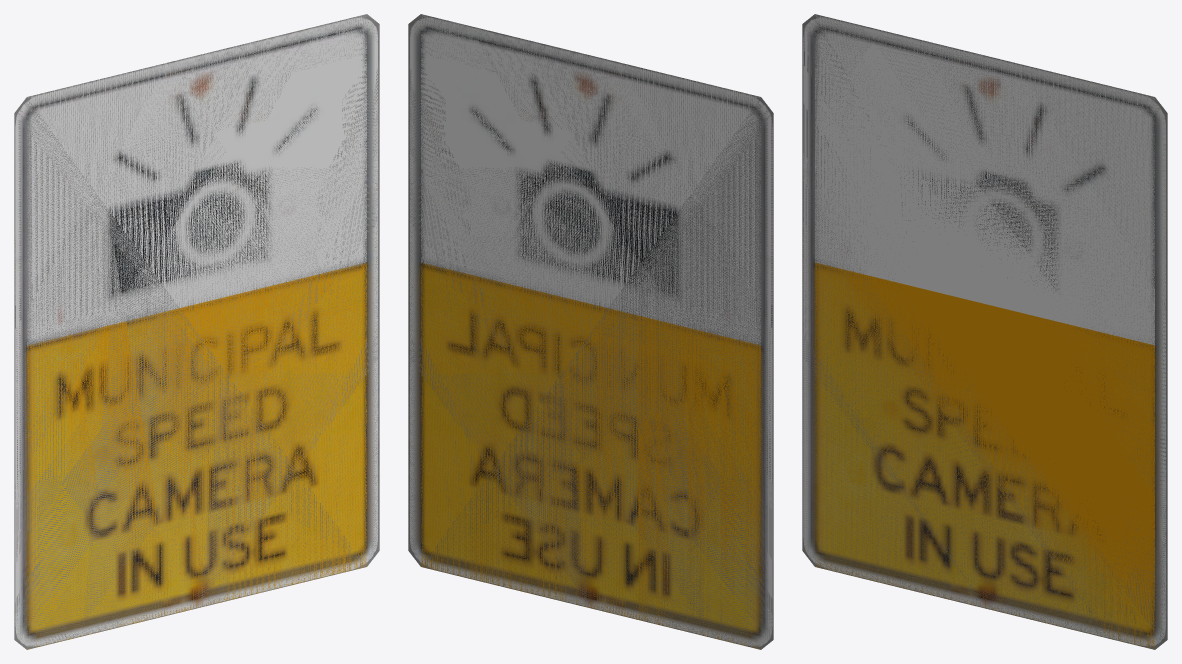
Rendered from s_sign_speedcam.dae.
3 renders of one model, left to right at view 1: azimuth 30°, elevation 25°; view 2: azimuth 150°, elevation 25°; view 3: azimuth 330°, elevation 25°, orthographic.
Parts seen in each view (by area): view 1: s_sign_speedcam_a030, s_sign_speedcam_a015; view 2: s_sign_speedcam_a030, s_sign_speedcam_a015; view 3: s_sign_speedcam_a015, s_sign_speedcam_a030.
Boxes of the visible parts, x1=… form: s_sign_speedcam_a030: x1=14, y1=14, x2=379, y2=649; s_sign_speedcam_a015: x1=27, y1=14, x2=366, y2=649; s_sign_speedcam_a030: x1=408, y1=14, x2=773, y2=649; s_sign_speedcam_a015: x1=421, y1=14, x2=760, y2=649; s_sign_speedcam_a015: x1=815, y1=14, x2=1154, y2=648; s_sign_speedcam_a030: x1=802, y1=14, x2=1167, y2=649.
Size of the model in its own units: 1.06 by 6.7e-08 by 1.53.
